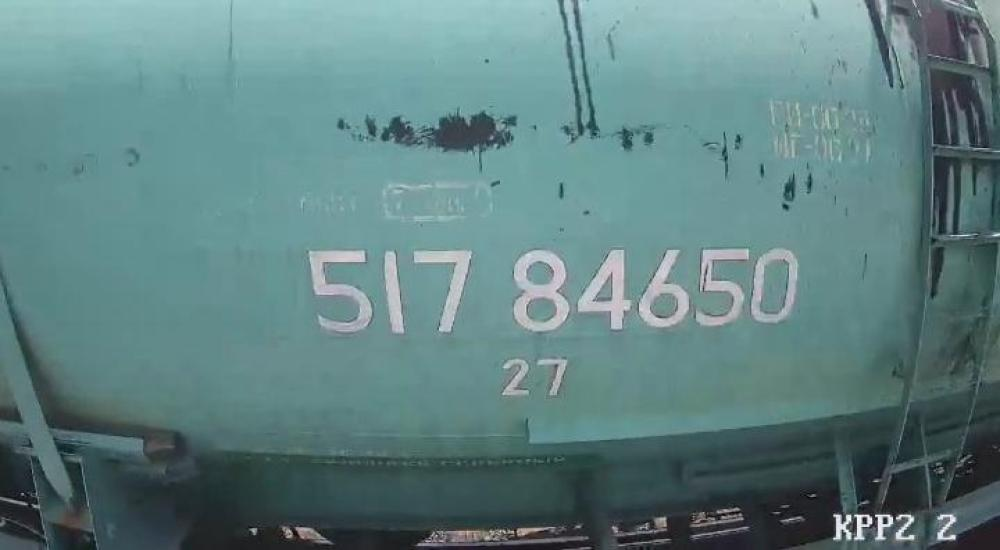Wagon-number: (297, 241, 806, 344)
